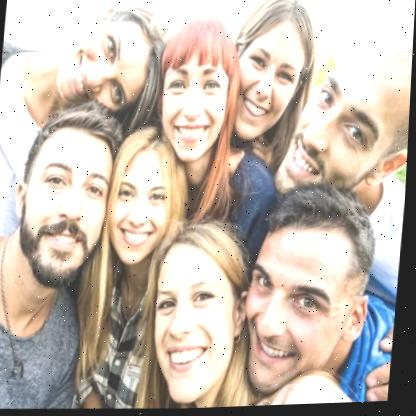person: (241, 184, 380, 391), (287, 28, 410, 191), (7, 110, 118, 287), (144, 221, 253, 401), (53, 0, 161, 121), (160, 8, 239, 170), (225, 0, 311, 142), (103, 128, 180, 264)
